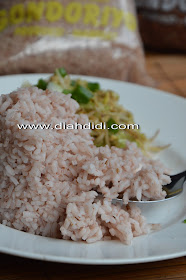Nasi Merah: (1, 80, 167, 253)
